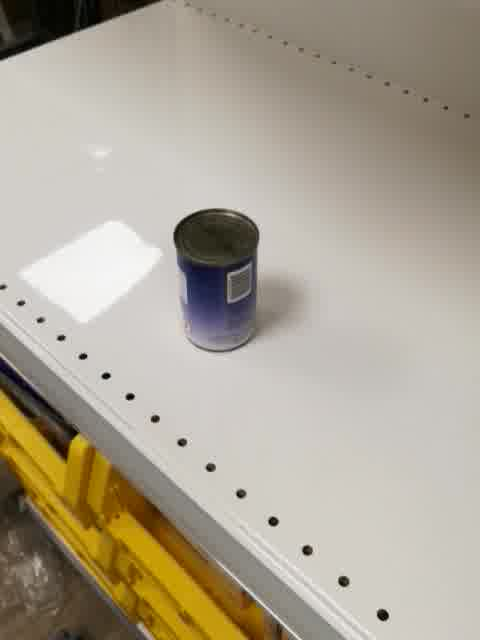sardine: (170, 206, 261, 358)
